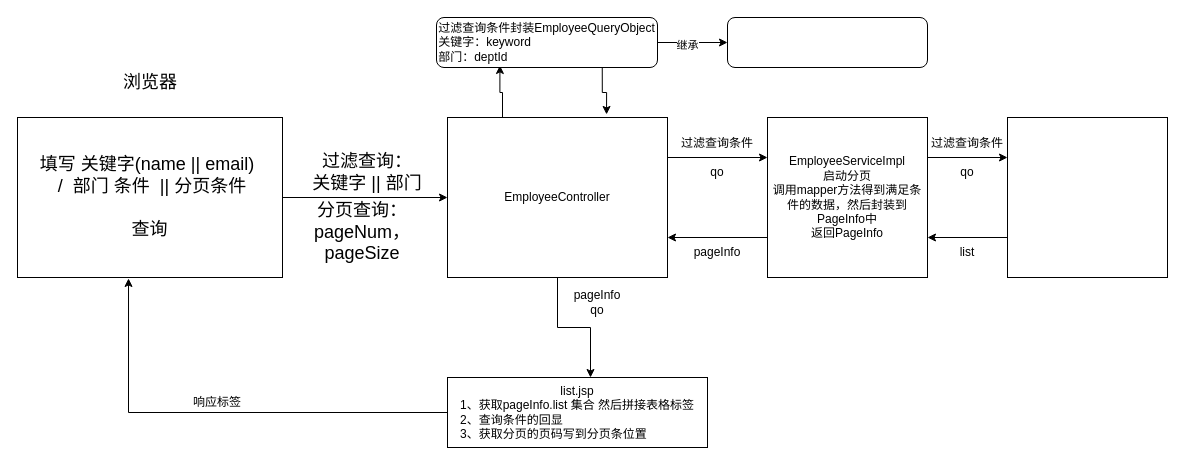
This 1185x465 diagram has some shape labels left out. Each missing label, with the centre of its shape:
"EmployeeMapper 根据条件动态的拼接SQL 执行SQL" belongs at [1087,197].
"分页的条件：QueryObject pageNum，pageSize" belongs at [827,42].
